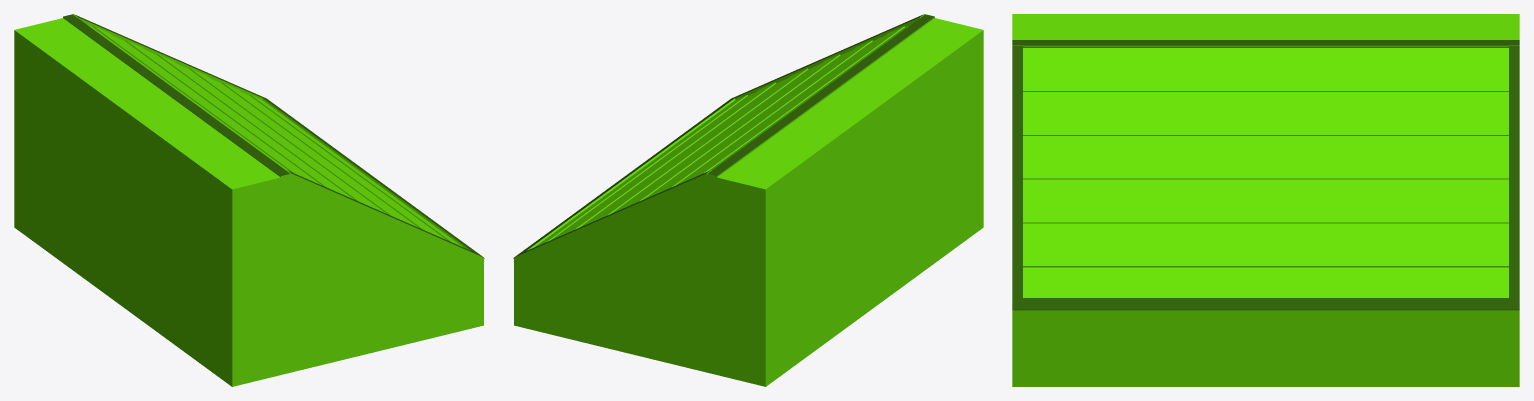
File: Jalan Naik-Turun.fbx
3 renders of one model, left to right at view 1: azimuth 30°, elevation 25°; view 2: azimuth 150°, elevation 25°; view 3: azimuth 270°, elevation 25°, orthographic. The views are drawn at different scales.
Visible parts, largest first — view 1: Jalan Naik; view 2: Jalan Naik; view 3: Jalan Naik.
Boxes of the visible parts, x1,y1,x2,y2 form: Jalan Naik: [14, 14, 484, 386]; Jalan Naik: [513, 14, 983, 386]; Jalan Naik: [1012, 14, 1519, 386].
Bounding box in the file's own units: 1606 × 1209 × 2400.
